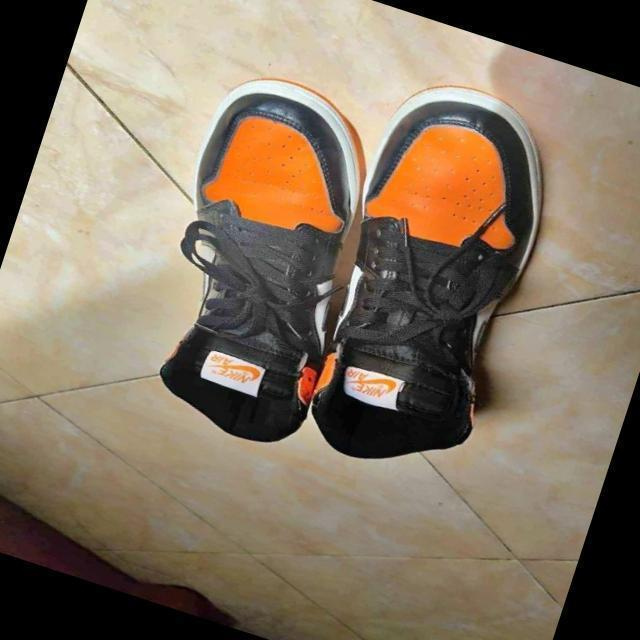nike fake jordan 1: (271, 60, 583, 497), (117, 64, 405, 458)
